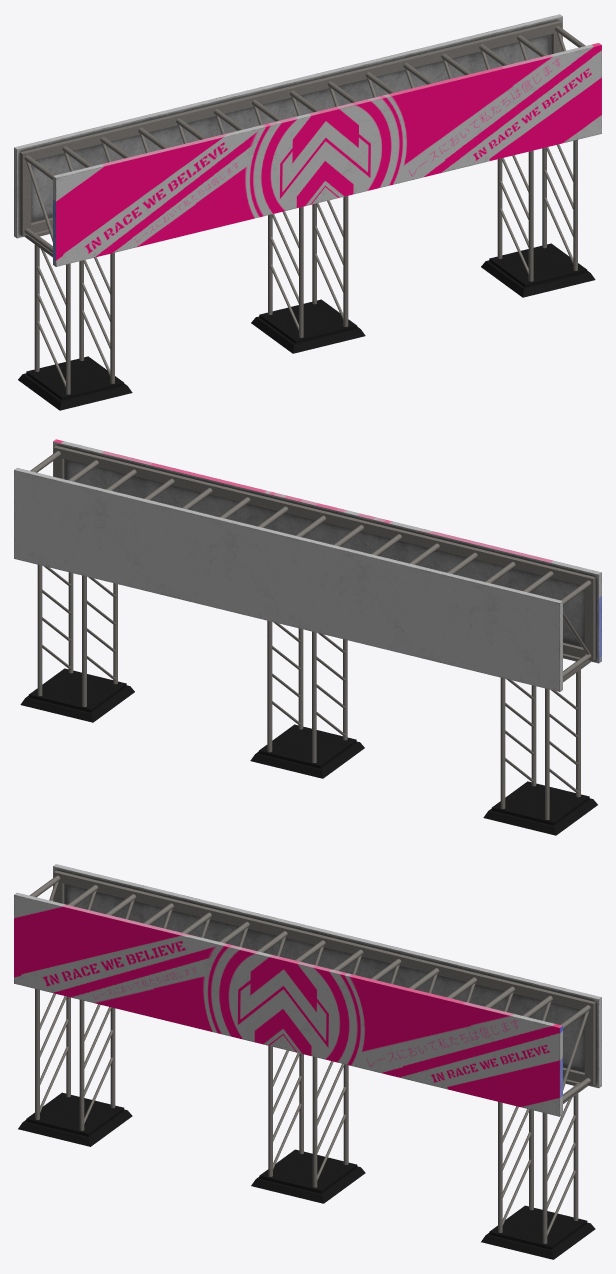
File: SM_TrackBilboards_A_V2.fbx
3 views of the same model, one above another, from view 1: azimuth 30°, elevation 25°; view 2: azimuth 150°, elevation 25°; view 3: azimuth 330°, elevation 25° (orthographic).
Visible parts, largest first — view 1: SM_TrackBilboards_A_V2_LOD0; view 2: SM_TrackBilboards_A_V2_LOD0; view 3: SM_TrackBilboards_A_V2_LOD0.
Boxes of the visible parts, x1,y1,x2,y2 form: SM_TrackBilboards_A_V2_LOD0: (14,14,601,410); SM_TrackBilboards_A_V2_LOD0: (14,439,601,835); SM_TrackBilboards_A_V2_LOD0: (14,864,601,1259).
Bounding box in the file's own units: 998 × 133 × 408.
Materials: 2 (2 with a texture image).
